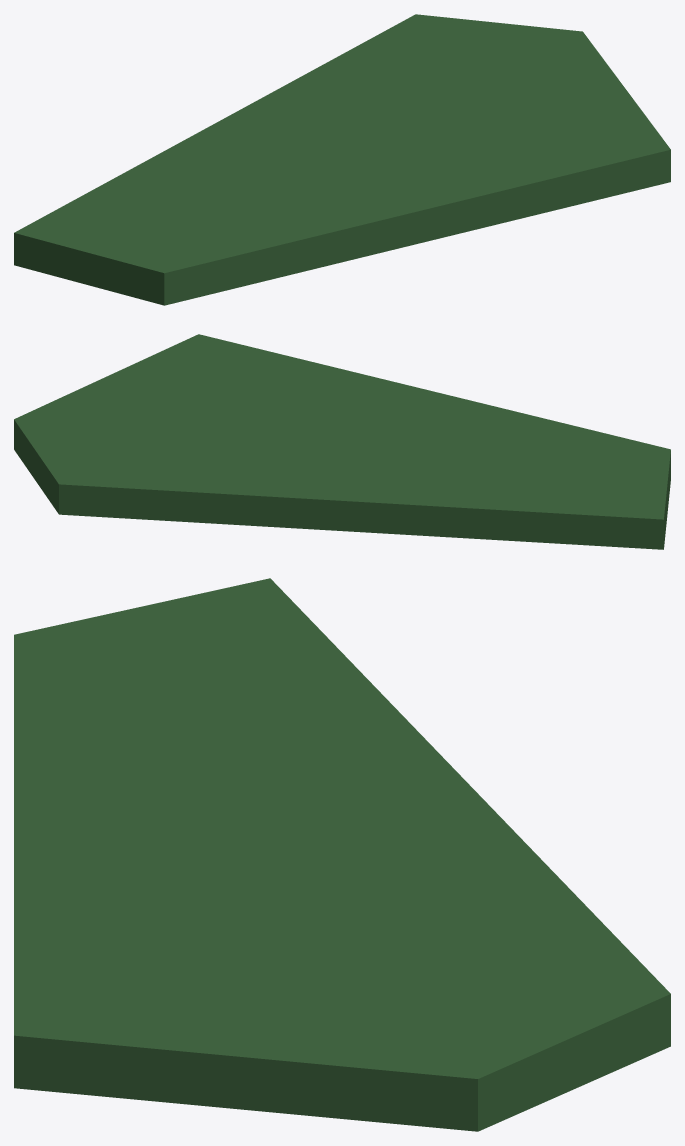
File: x_proval_00_127_1_rmstrd.fbx
3 views of the same model, one above another, from view 1: azimuth 30°, elevation 25°; view 2: azimuth 150°, elevation 25°; view 3: azimuth 270°, elevation 25° (orthographic). The views are drawn at different scales.
Visible parts, largest first — view 1: x_proval_00_127_1_rmstrd1; view 2: x_proval_00_127_1_rmstrd1; view 3: x_proval_00_127_1_rmstrd1.
Boxes of the visible parts, x1,y1,x2,y2 form: x_proval_00_127_1_rmstrd1: (14, 14, 670, 305); x_proval_00_127_1_rmstrd1: (14, 334, 670, 549); x_proval_00_127_1_rmstrd1: (14, 578, 670, 1131).
Bounding box in the file's own units: 4.08 × 0.2 × 2.26.
